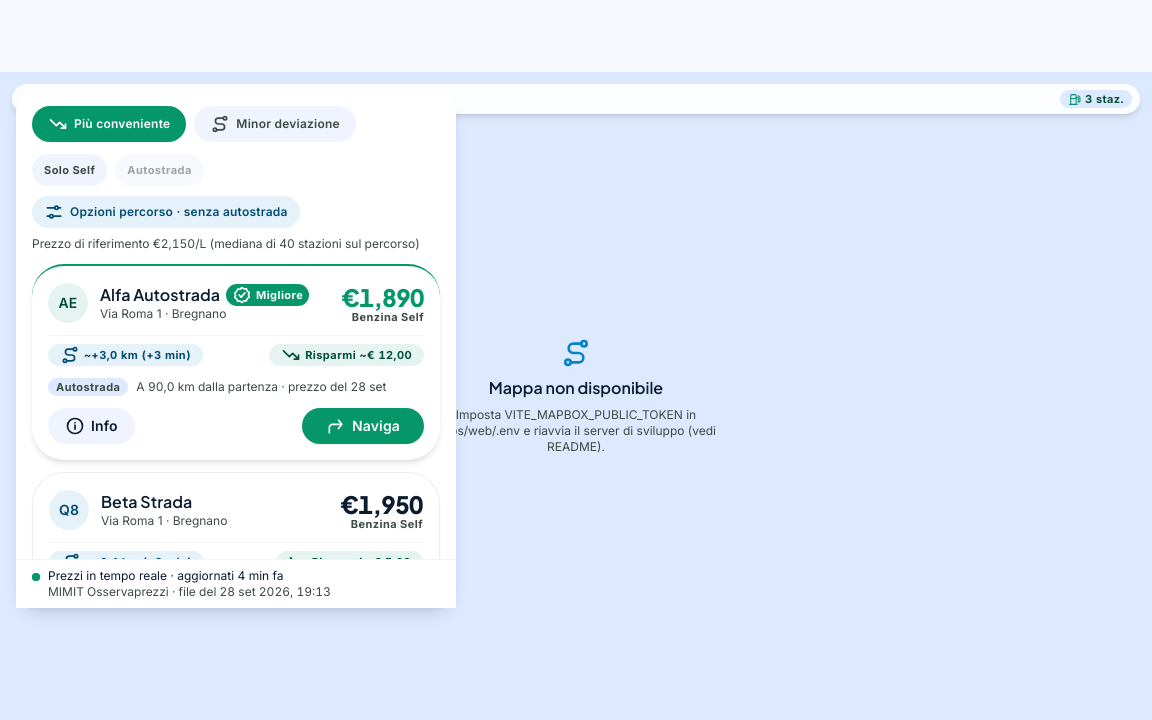
Test: ResultsScreen — «Opzioni percorso» › «Applica» è disattivato finché non cambia nulla: niente ricerche inutili
This screenshot has width=1152, height=720.
Step 1. Click the button with test id "route-options-chip" → (166, 212), box [32,196,300,228]
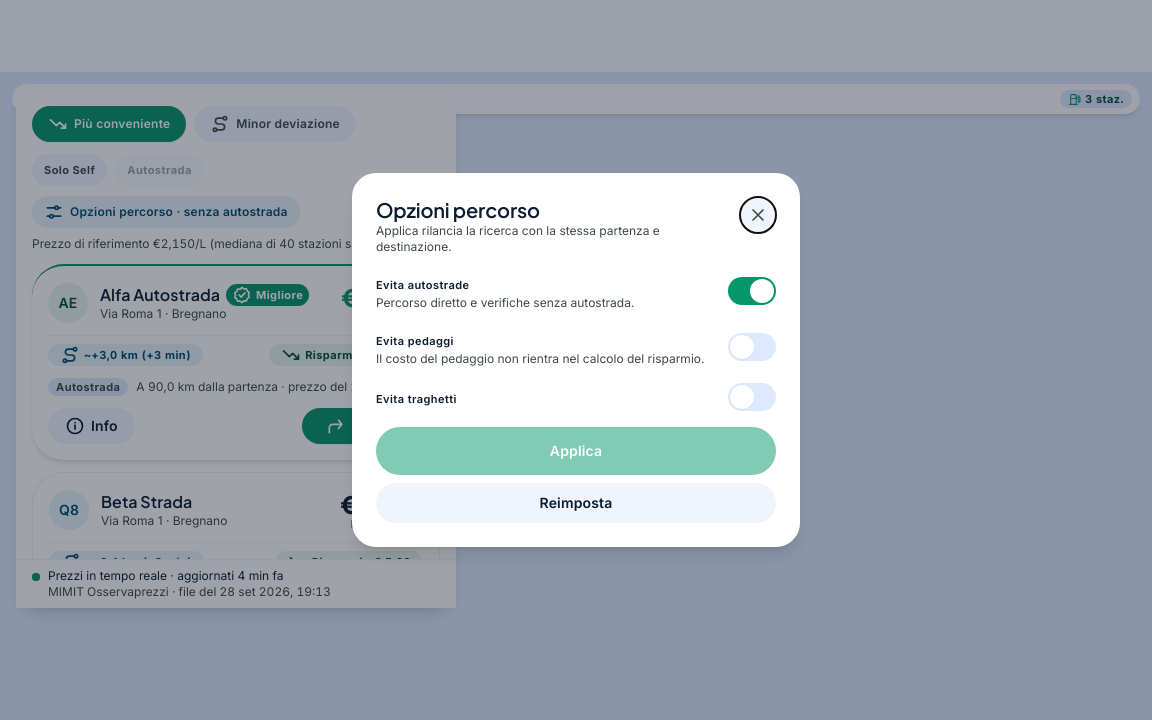
Result: the button "Applica" is disabled at [376,427,776,475]
Step 2. Click the switch named "Evita traghetti" in the row of "Evita traghetti" → (752, 397), box [728,383,776,411]
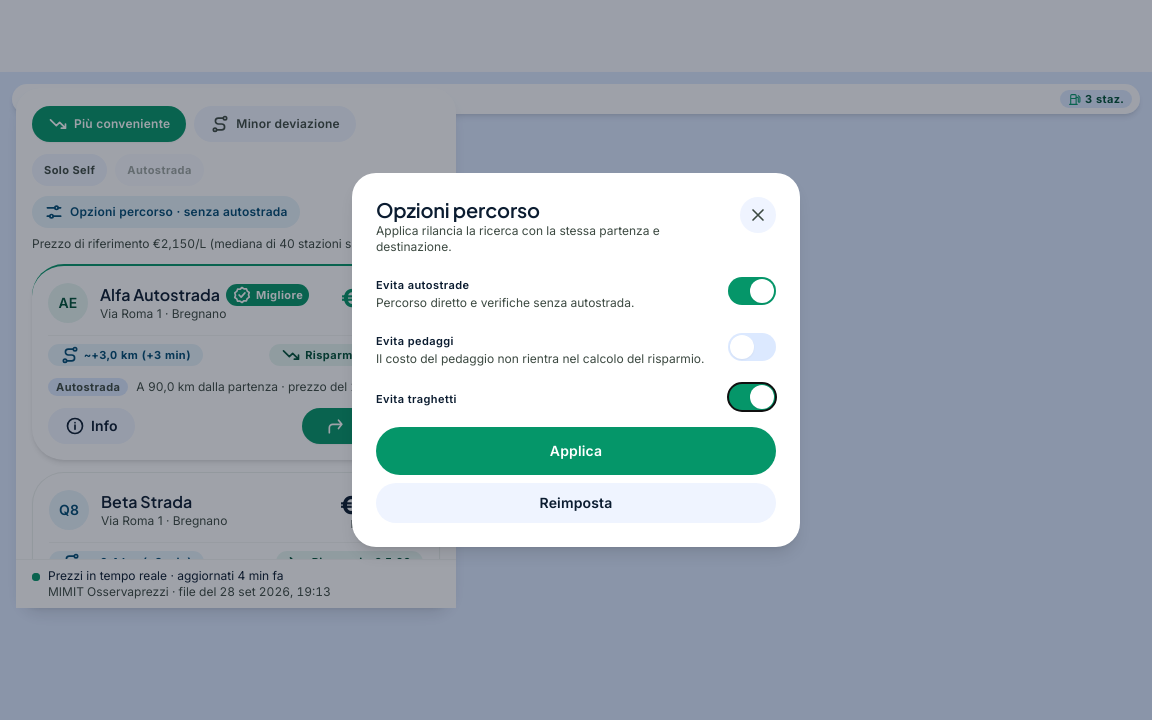
Result: the button "Applica" is enabled at [376,427,776,475]
Step 3. Click the switch named "Evita traghetti" in the row of "Evita traghetti" → (752, 397), box [728,383,776,411]
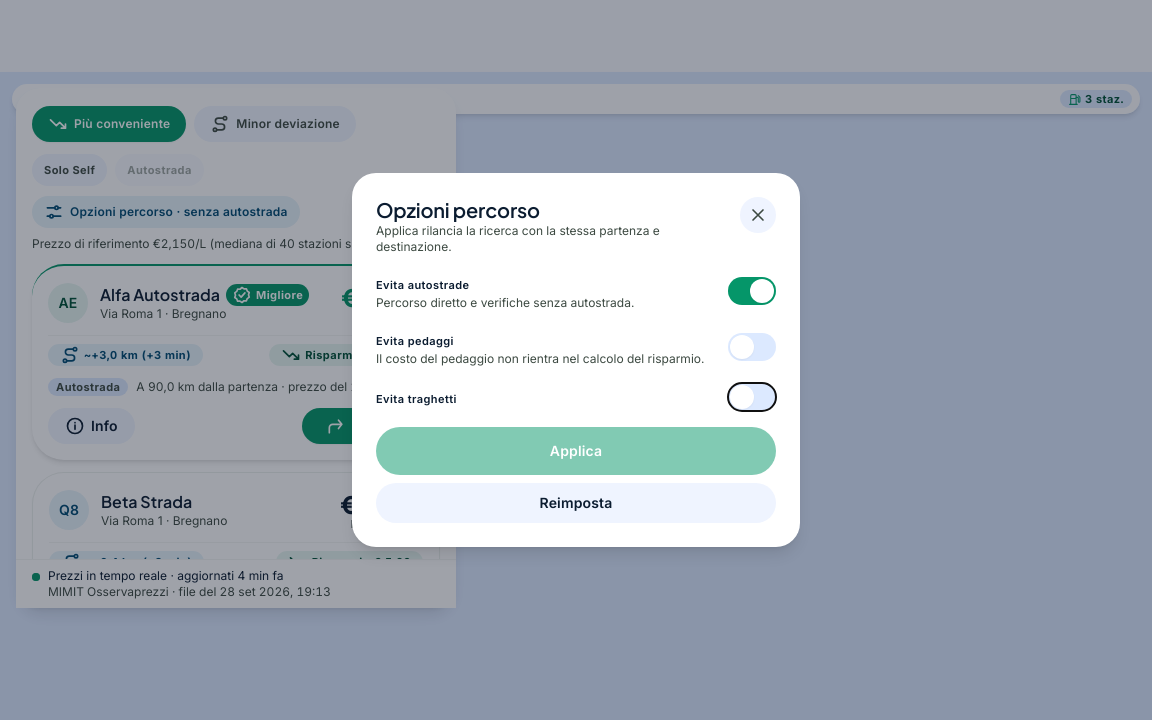
Result: the button "Applica" is disabled at [376,427,776,475]
